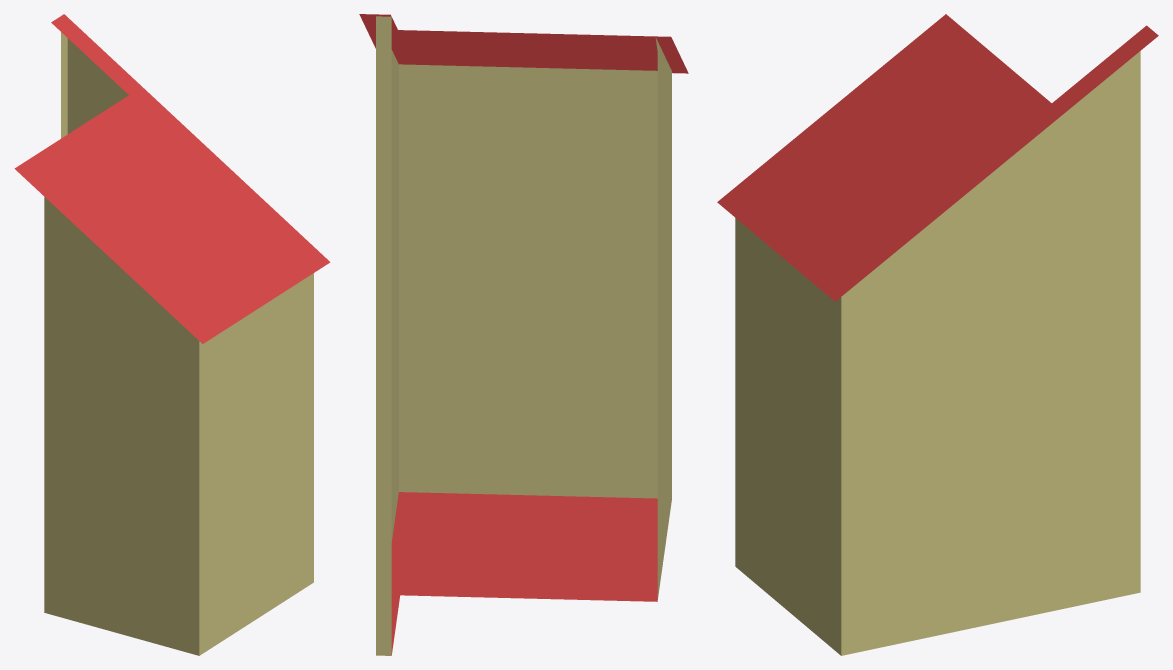
3 views of the same model, side by side, from view 1: azimuth 30°, elevation 25°; view 2: azimuth 150°, elevation 25°; view 3: azimuth 270°, elevation 25° (orthographic). The views are drawn at different scales.
Size of the model in its own units: 6.4 by 8.07 by 11.28.
